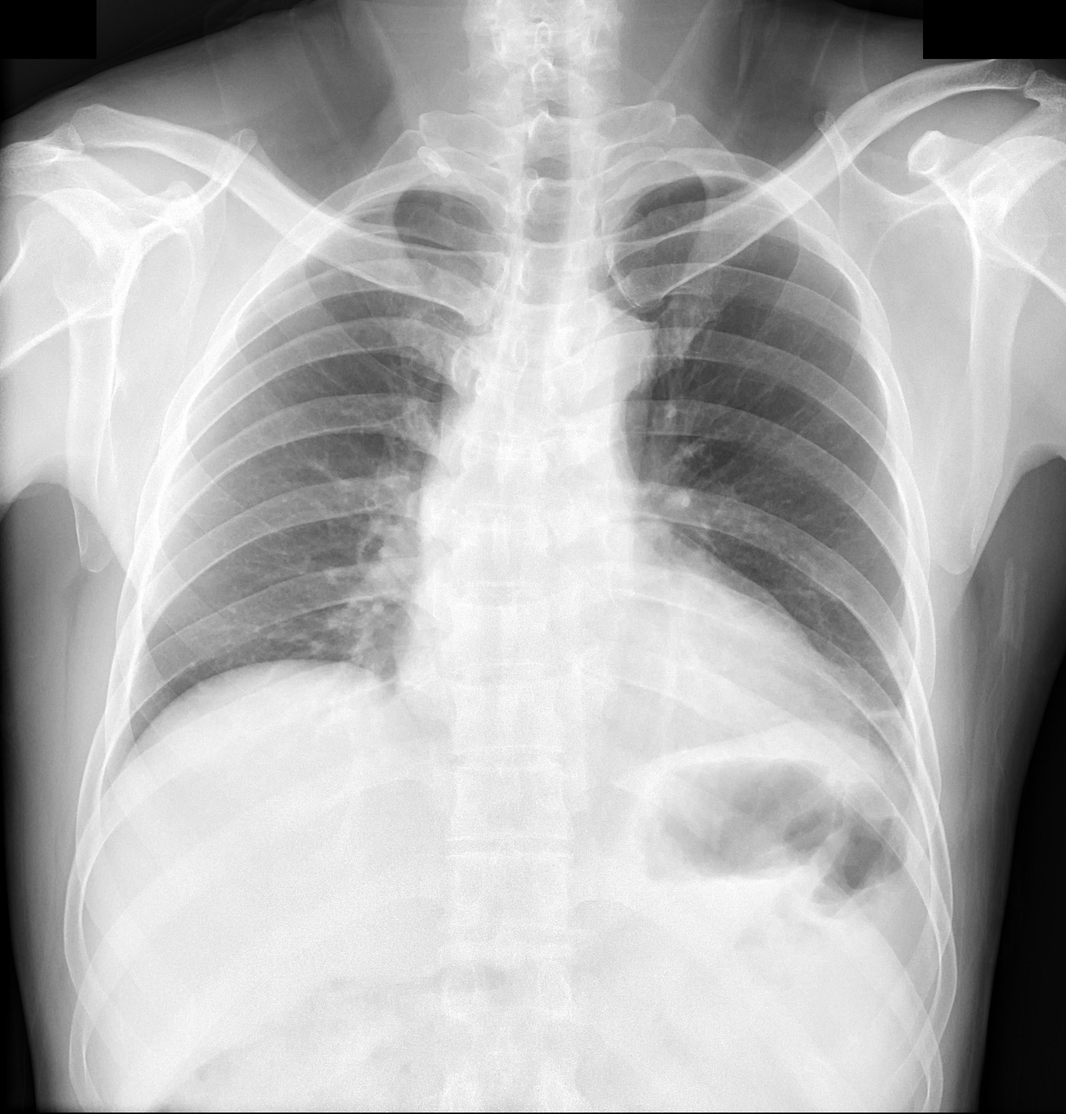Aortic enlargement: (527, 300, 655, 404)
Cardiomegaly: (394, 607, 848, 776)
